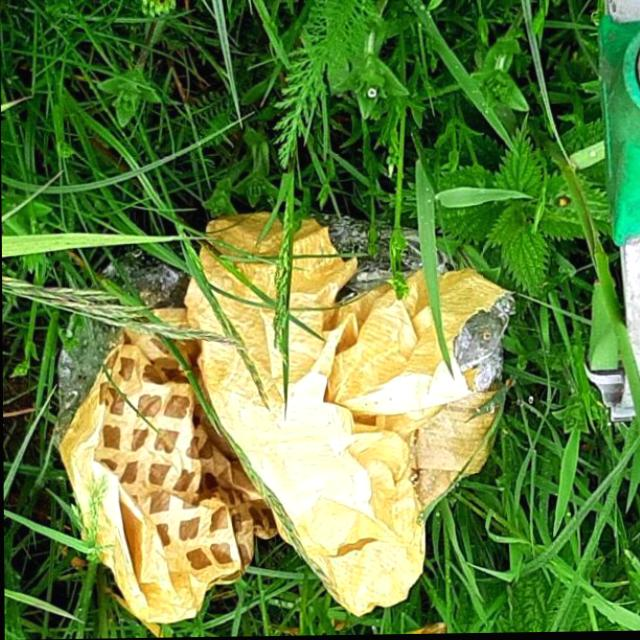Paper: (51, 206, 519, 629)
